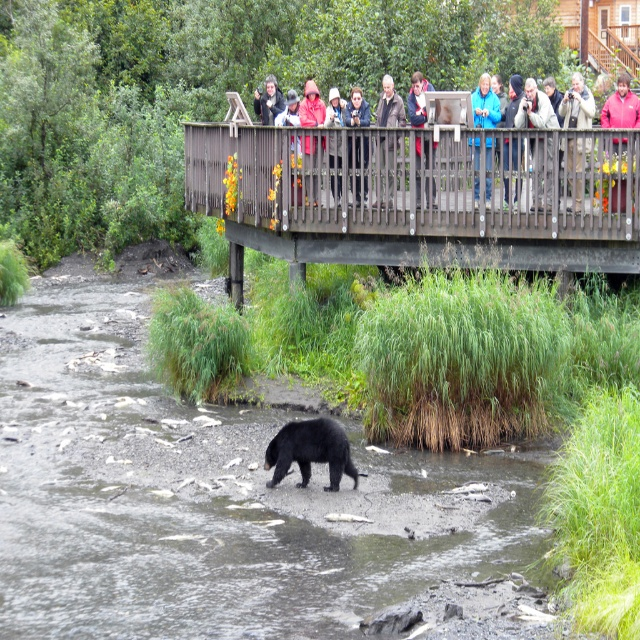Bear: (262, 415, 360, 496)
